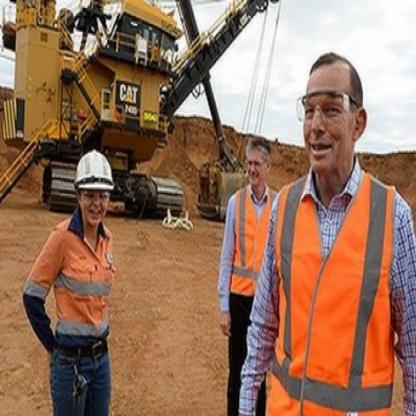person: (232, 63, 415, 414), (22, 146, 113, 415), (212, 126, 277, 246)
